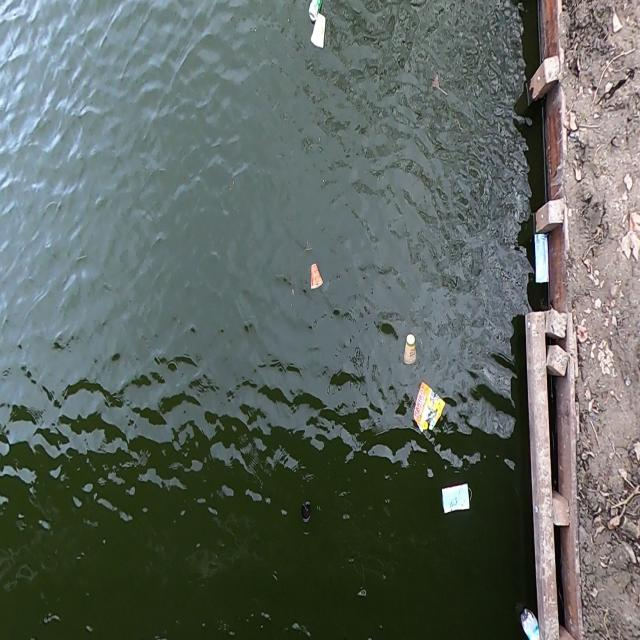Autre plastique: (411, 376, 446, 438)
Non plastique: (435, 483, 474, 520), (401, 331, 420, 367), (306, 258, 325, 292), (313, 17, 328, 53), (308, 0, 322, 21)
